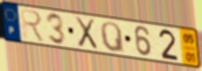2: (158, 28, 180, 63)
3: (45, 12, 67, 46)
6: (134, 25, 153, 57)
Q: (99, 21, 126, 55)
R: (19, 7, 47, 44)
X: (74, 15, 99, 51)
